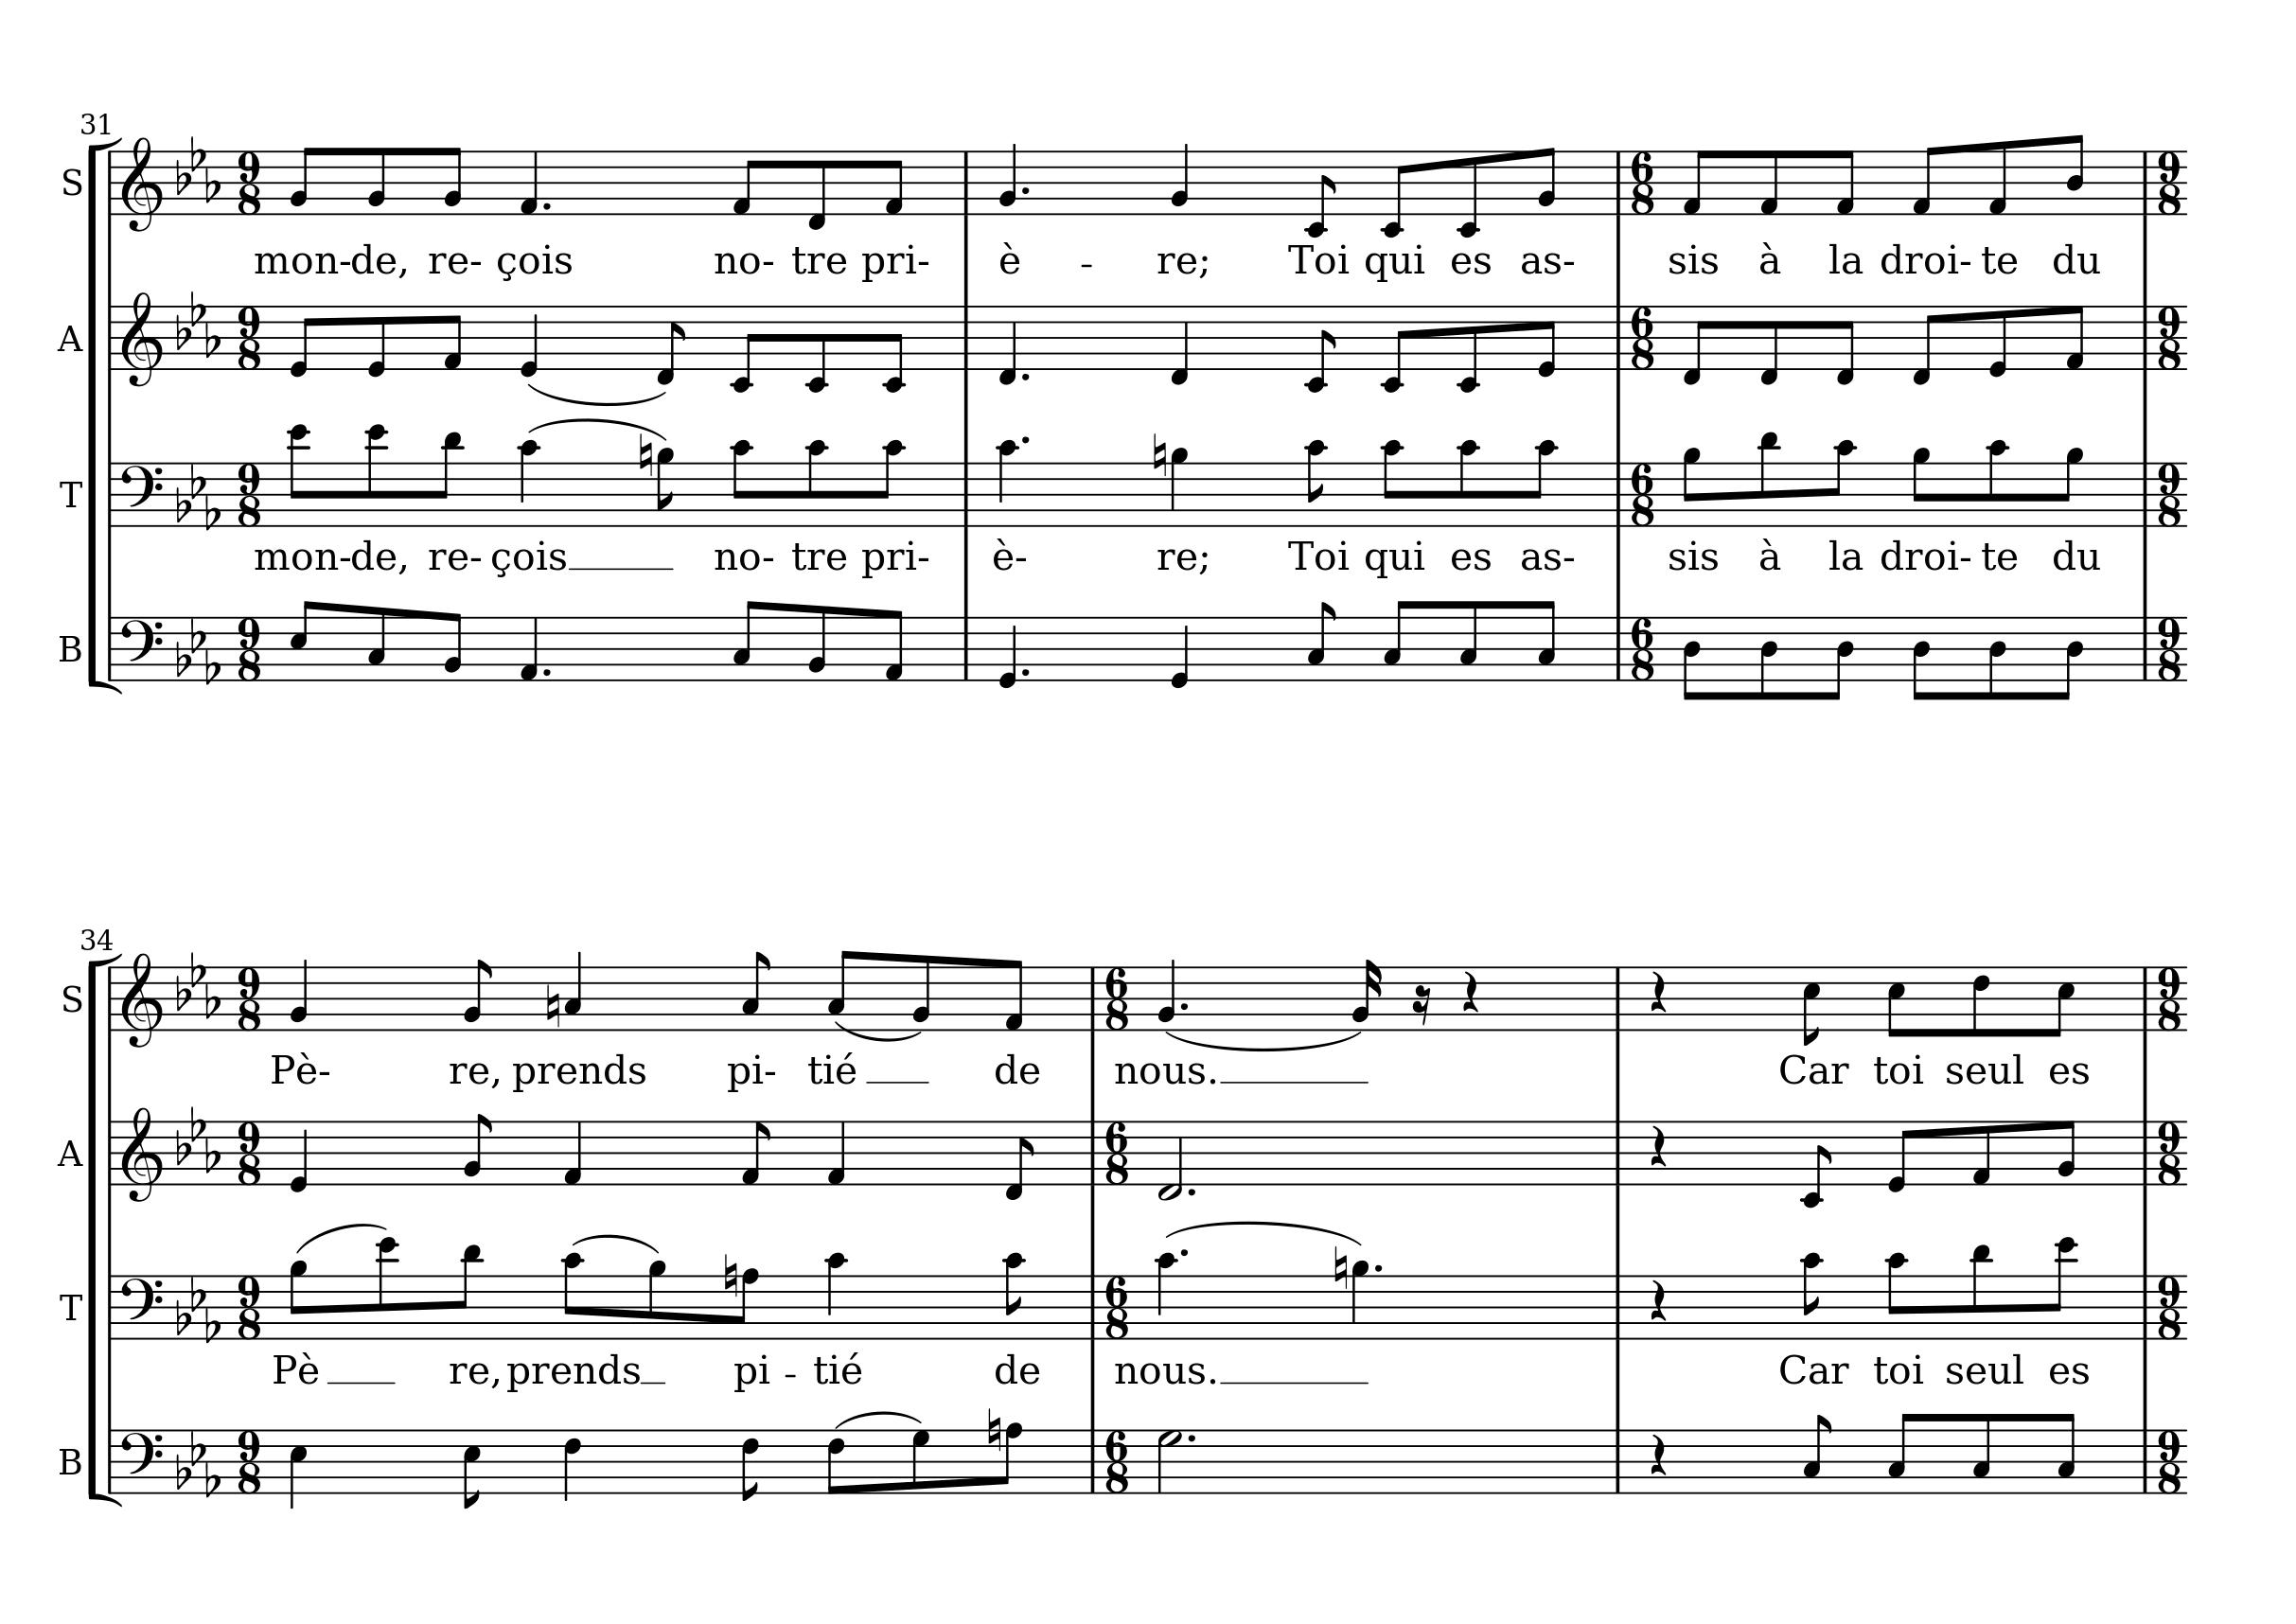1: (98, 111, 111, 135)
16_2: (1349, 956, 1381, 1032)
2_-1: (1156, 1118, 1182, 1200)
2_7: (1156, 1427, 1180, 1494)
3: (79, 926, 95, 953), (79, 111, 95, 135)
4: (97, 926, 114, 951)
4_-1: (1166, 302, 1189, 387), (994, 302, 1017, 385)
4_0: (286, 1118, 309, 1192), (518, 302, 539, 378), (996, 613, 1017, 689), (1168, 613, 1189, 689)
4_1: (560, 1118, 583, 1186), (824, 1118, 847, 1186), (516, 149, 539, 216), (516, 615, 539, 682)
4_10: (516, 436, 541, 527), (994, 438, 1019, 527), (824, 1250, 848, 1339), (1154, 1251, 1179, 1341)
4_2: (996, 141, 1017, 216), (1168, 141, 1189, 216), (1156, 956, 1177, 1032), (288, 956, 309, 1030)
4_3: (562, 949, 583, 1030)
4_5: (288, 1427, 307, 1510)
4_6: (562, 1425, 581, 1501)
4_9: (1168, 445, 1189, 527), (1349, 1257, 1370, 1339)
6: (1103, 963, 1130, 998), (1628, 304, 1655, 337), (1628, 460, 1655, 494), (1103, 1118, 1130, 1151), (1103, 1272, 1130, 1306), (1103, 1427, 1130, 1461), (1628, 149, 1655, 181), (1628, 615, 1655, 647)
8: (2155, 1302, 2185, 1339), (2155, 336, 2185, 371), (2155, 492, 2185, 527), (2155, 647, 2185, 682), (2155, 995, 2185, 1030), (2155, 1149, 2185, 1185), (235, 995, 262, 1032), (2155, 181, 2184, 214), (1103, 997, 1131, 1030), (2155, 1461, 2184, 1494), (235, 336, 262, 371), (235, 492, 262, 527), (1628, 647, 1655, 682), (235, 1459, 262, 1494), (1628, 337, 1657, 369), (1630, 181, 1657, 214), (235, 181, 262, 214), (235, 1151, 262, 1185), (1103, 1151, 1130, 1185), (235, 1306, 262, 1339), (237, 647, 262, 682), (1628, 494, 1655, 526), (1103, 1306, 1130, 1338), (1103, 1461, 1130, 1492)
8_-1: (655, 302, 687, 385), (1003, 1118, 1035, 1200), (1679, 302, 1708, 387), (1910, 302, 1938, 387), (1757, 302, 1780, 387), (805, 148, 827, 230), (1834, 302, 1855, 387)
8_-2: (1302, 148, 1337, 237), (1302, 304, 1337, 392), (1799, 1118, 1832, 1207), (1377, 302, 1409, 394), (727, 302, 759, 392), (1377, 149, 1409, 237), (878, 302, 906, 392), (803, 302, 829, 394), (1455, 149, 1481, 237), (1455, 302, 1479, 394)
8_0: (286, 302, 314, 378), (1887, 1118, 1913, 1192), (1985, 302, 2008, 378), (364, 302, 385, 378), (1535, 304, 1556, 378)
8_1: (740, 1118, 771, 1186), (1910, 144, 1938, 216), (729, 149, 759, 216), (1679, 148, 1708, 216), (1985, 139, 2008, 216), (882, 606, 905, 684), (1003, 956, 1024, 1032), (1757, 148, 1780, 216), (882, 149, 905, 216), (1834, 148, 1855, 216), (2062, 302, 2083, 371), (1971, 1118, 1992, 1186), (441, 304, 462, 371)
8_10: (873, 438, 905, 527), (1527, 436, 1556, 527), (1827, 436, 1855, 527), (1379, 438, 1405, 527), (729, 436, 754, 527), (803, 438, 827, 527), (1303, 438, 1328, 527), (1799, 1250, 1823, 1339), (1885, 1250, 1910, 1339), (1456, 436, 1479, 527), (1985, 438, 2008, 527), (560, 1250, 583, 1339), (1003, 1250, 1024, 1339)
8_11: (432, 429, 462, 527), (453, 1241, 481, 1339), (1757, 429, 1780, 529), (1969, 1241, 1992, 1341)
8_12: (2047, 1234, 2076, 1339), (364, 422, 388, 527), (286, 422, 311, 526), (374, 1236, 399, 1339)
8_2: (462, 1111, 492, 1186), (462, 956, 492, 1030), (288, 144, 314, 214), (805, 601, 827, 682), (910, 953, 931, 1032), (365, 144, 386, 216), (1535, 144, 1556, 216), (443, 144, 462, 216), (443, 610, 462, 682), (2057, 1118, 2075, 1186)
8_3: (1303, 599, 1335, 682), (740, 949, 771, 1032), (1801, 1411, 1832, 1494), (731, 598, 759, 682), (1381, 598, 1409, 682), (826, 947, 854, 1032), (1885, 1410, 1913, 1494), (1456, 598, 1479, 682), (1535, 598, 1556, 682), (1971, 1410, 1992, 1494), (365, 605, 386, 682), (2055, 1410, 2075, 1494)
8_4: (1825, 613, 1853, 703), (2055, 613, 2083, 701), (1985, 613, 2008, 701), (1910, 613, 1931, 703), (1757, 613, 1778, 701), (2064, 132, 2085, 216), (1681, 613, 1700, 703)
8_5: (288, 598, 314, 682), (2048, 965, 2075, 1039), (1801, 963, 1822, 1048), (462, 1425, 481, 1508), (1887, 965, 1906, 1039)
8_6: (740, 1427, 761, 1503), (826, 1425, 847, 1496), (1971, 963, 1990, 1039)
8_7: (910, 1425, 931, 1494)
8_8: (733, 1265, 761, 1339), (996, 1420, 1022, 1494)
8_9: (2055, 446, 2083, 527), (1681, 445, 1702, 527), (1911, 445, 1932, 527), (653, 446, 675, 527), (646, 1257, 666, 1339), (288, 1258, 307, 1339)
9: (2154, 963, 2185, 998), (2155, 1272, 2185, 1308), (2155, 1425, 2185, 1461), (2154, 149, 2184, 183), (2155, 613, 2184, 649), (235, 963, 264, 998), (2155, 304, 2184, 337), (2155, 460, 2184, 494), (2155, 1118, 2184, 1151), (235, 148, 262, 183), (235, 613, 262, 649), (235, 1118, 262, 1153), (235, 1272, 262, 1308), (235, 1425, 262, 1461), (235, 302, 262, 336), (235, 460, 262, 494)
Bracke: (83, 134, 125, 698), (90, 954, 125, 1504)
E_F: (174, 134, 221, 204), (174, 288, 221, 359), (174, 460, 221, 531), (174, 949, 221, 1019), (174, 615, 221, 684), (174, 1104, 221, 1172), (174, 1274, 221, 1343), (174, 1429, 221, 1496)
Fclef: (118, 613, 165, 682), (118, 1427, 163, 1494), (119, 459, 163, 527), (119, 1272, 163, 1339)
Gclef: (119, 134, 163, 232), (119, 288, 163, 387), (119, 951, 163, 1049), (119, 1104, 163, 1202)
Natural: (543, 981, 560, 1030), (984, 1404, 1001, 1454), (1330, 1243, 1347, 1290), (636, 429, 652, 476), (1151, 429, 1166, 476), (722, 1251, 738, 1297)
Rests16: (1411, 982, 1432, 1026)
Rests4: (1646, 1121, 1669, 1169), (1646, 1431, 1669, 1478), (1458, 968, 1481, 1014), (1646, 968, 1669, 1014), (1646, 1276, 1669, 1322)
Single_barline: (1607, 1274, 1627, 1338), (1607, 1429, 1627, 1492), (1607, 967, 1627, 1028), (1607, 1121, 1627, 1183), (2136, 304, 2154, 369), (2136, 615, 2154, 680), (1084, 965, 1101, 1030), (2136, 965, 2154, 1030), (1084, 1120, 1101, 1185), (2136, 1120, 2154, 1185), (1609, 151, 1627, 214), (2136, 151, 2154, 214), (957, 151, 975, 214), (1609, 304, 1627, 367), (1609, 462, 1627, 526), (2136, 462, 2154, 526), (957, 462, 975, 526), (1609, 617, 1627, 680), (1084, 1274, 1101, 1338), (2136, 1274, 2154, 1338), (1084, 1429, 1101, 1492), (2136, 1429, 2154, 1492), (957, 617, 973, 680), (104, 967, 119, 1030), (104, 1121, 119, 1185), (102, 1274, 118, 1338), (104, 1429, 119, 1492), (957, 306, 973, 367), (105, 151, 119, 214), (104, 617, 118, 680), (104, 306, 118, 367), (104, 464, 118, 526)
Slur: (1166, 1220, 1363, 1244), (1163, 1028, 1363, 1049), (527, 417, 671, 441), (527, 383, 668, 406), (295, 1222, 386, 1251), (834, 1018, 921, 1042), (571, 1232, 661, 1253), (834, 1410, 922, 1429)
TimeSig: (2155, 459, 2184, 529), (2155, 302, 2184, 371), (235, 613, 264, 682), (2155, 965, 2184, 1033), (2155, 1118, 2184, 1186), (2155, 1271, 2184, 1339), (2155, 1425, 2184, 1494), (235, 149, 264, 216), (1628, 149, 1657, 216), (2155, 149, 2184, 216), (235, 304, 264, 371), (1628, 304, 1657, 371), (235, 460, 264, 527), (2155, 613, 2184, 680), (235, 965, 264, 1032), (1628, 613, 1655, 682), (235, 1118, 262, 1186), (235, 1425, 262, 1494), (1103, 1425, 1130, 1494), (1628, 460, 1655, 527), (235, 1272, 262, 1339), (1103, 1272, 1130, 1339), (1103, 965, 1130, 1030), (1103, 1120, 1130, 1185)
dot: (1019, 183, 1031, 197), (1177, 998, 1189, 1012), (1186, 1431, 1198, 1445), (541, 200, 553, 213), (1019, 369, 1031, 381), (1019, 434, 1031, 446), (541, 666, 553, 678), (1019, 666, 1031, 678), (1186, 1185, 1198, 1197), (1372, 1262, 1384, 1274), (1179, 1246, 1189, 1258)
